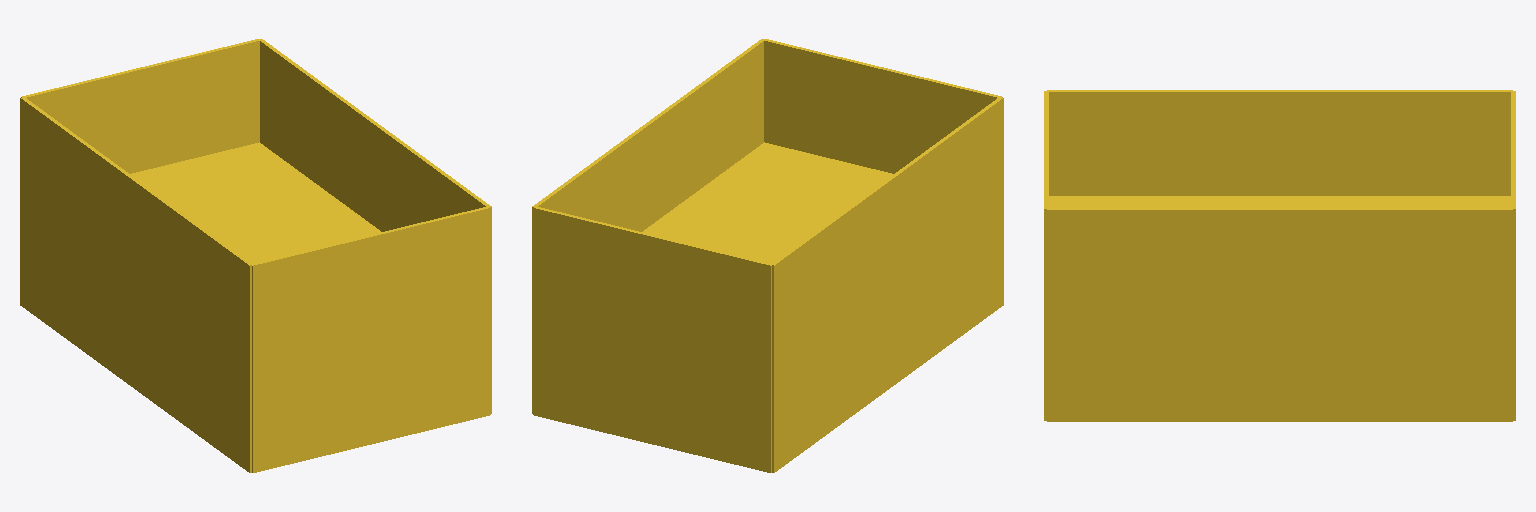
URDF robot description (mmp_panda):
<?xml version='1.0' encoding='utf-8'?>

<robot name="mmp_panda" version="1.0">

  <!-- GROUND LINK -->
  <link name ="ground_link">
    <inertial>
      <origin xyz="0.0 0.0 0.0" rpy="0 0 0" />
      <mass value="0.001" />
      <inertia ixx="1E-06" ixy="0.0" ixz="0.0" iyy="1E-06" iyz="0.0" izz="1E-06" />
    </inertial>
  </link>


   <!-- BASKET LINKS -->
  <link name = "basket_wall1">
    <inertial>
      <origin xyz="0.0 0.0 0.0" rpy="0 0 0" />
      <mass value = "0.1" />
      <inertia ixx="0.1" ixy="0.0" ixz="0.0" iyy="0.1" iyz="0.0" izz="0.1" />
    </inertial>
    <collision>
      <origin xyz="0.0 0.0 0" rpy="0 0 0" />
      <geometry>
        <box size="0.005 0.5 0.25" />
      </geometry>
    </collision>
    <visual>
      <origin xyz="0.0 0.0 0" rpy="0 0 0" />
      <geometry>
        <box size="0.005 0.5 0.25" />
      </geometry>
      <material name="material">
		        <color rgba="0.956 0.815 0.24 1.0" />
	    </material>
    </visual>
  </link>
  <link name = "basket_wall2">
    <inertial>
      <origin xyz="0.0 0.0 0.0" rpy="0 0 0" />
      <mass value = "0.1" />
      <inertia ixx="0.1" ixy="0.0" ixz="0.0" iyy="0.1" iyz="0.0" izz="0.1" />
    </inertial>
    <collision>
      <origin xyz="0.3 0.0 0" rpy="0 0 0" />
      <geometry>
        <box size="0.005 0.5 0.25" />
      </geometry>
    </collision>
    <visual>
      <origin xyz="0.3 0.0 0" rpy="0 0 0" />
      <geometry>
        <box size="0.005 0.5 0.25" />
      </geometry>
      <material name="material">
		        <color rgba="0.956 0.815 0.24 1.0" />
	    </material>
    </visual>
  </link>
  <link name = "basket_wall3">
    <inertial>
      <origin xyz="0.0 0.0 0.0" rpy="0 0 0" />
      <mass value = "0.1" />
      <inertia ixx="0.1" ixy="0.0" ixz="0.0" iyy="0.1" iyz="0.0" izz="0.1" />
    </inertial>
    <collision>
      <origin xyz="0.15 0.25 0" rpy="0 0 0" />
      <geometry>
        <box size="0.3 0.005 0.25" />
      </geometry>
    </collision>
    <visual>
      <origin xyz="0.15 0.25 0" rpy="0 0 0" />
      <geometry>
        <box size="0.3 0.005 0.25" />
      </geometry>
      <material name="material">
		        <color rgba="0.956 0.815 0.24 1.0" />
	    </material>
    </visual>
  </link>
  <link name = "basket_wall4">
    <inertial>
      <origin xyz="0.0 0.0 0.0" rpy="0 0 0" />
      <mass value = "0.1" />
      <inertia ixx="0.1" ixy="0.0" ixz="0.0" iyy="0.1" iyz="0.0" izz="0.1" />
    </inertial>
     <collision>
      <origin xyz="0.15 -0.25 0" rpy="0 0 0" />
      <geometry>
        <box size="0.3 0.005 0.25" />
      </geometry>
    </collision>
    <visual>
      <origin xyz="0.15 -0.25 0" rpy="0 0 0" />
      <geometry>
        <box size="0.3 0.005 0.25" />
      </geometry>
      <material name="material">
		        <color rgba="0.956 0.815 0.24 1.0" />
	    </material>
    </visual>
  </link>
  <link name = "basket_wall5">
    <inertial>
      <origin xyz="0.0 0.0 0.0" rpy="0 0 0" />
      <mass value = "0.1" />
      <inertia ixx="0.1" ixy="0.0" ixz="0.0" iyy="0.1" iyz="0.0" izz="0.1" />
    </inertial>
    <collision>
      <origin xyz="0.15 0.0 0" rpy="0 0 0" />
      <geometry>
        <box size="0.3 0.5 0.005" />
      </geometry>
    </collision>
    <visual>
      <origin xyz="0.15 0.0 0" rpy="0 0 0" />
      <geometry>
        <box size="0.3 0.5 0.005" />
      </geometry>
      <material name="material">
		        <color rgba="0.956 0.815 0.24 1.0" />
	    </material>
    </visual>
  </link>



  <!--BASKET JOINTS -->
  <joint name = "basket_link1" type = "fixed">
    <origin xyz = "0 0 0" rpy = "0 0 0"/> 
    <parent link = "ground_link" />
    <child link= "basket_wall1"/>
    <axis xyz = "1 0 0" />
  </joint>

  <joint name = "basket_link2" type = "fixed">
    <origin xyz = "0 0 0" rpy = "0 0 0"/> 
    <parent link = "basket_wall1" />
    <child link= "basket_wall2"/>
    <axis xyz = "0 1 0" />
  </joint>

  <joint name = "basket_link3" type = "fixed">
    <origin xyz = "0 0 0" rpy = "0 0 0"/> 
    <parent link = "basket_wall2" />
    <child link= "basket_wall3"/>
    <axis xyz = "0 1 0" />
  </joint>

  <joint name = "basket_link4" type = "fixed">
    <origin xyz = "0 0 0" rpy = "0 0 0"/> 
    <parent link = "basket_wall3" />
    <child link= "basket_wall4"/>
    <axis xyz = "0 1 0" />
  </joint>

  <joint name = "basket_link5" type = "fixed">
    <origin xyz = "0 0 0" rpy = "0 0 0"/> 
    <parent link = "basket_wall4" />
    <child link= "basket_wall5"/>
    <axis xyz = "0 1 0" />
  </joint>
 
</robot> 

--- What the picture shows (computed from the rendered views, not written in the file) ---
Views: 3 orthographic renders of the robot side by side, from view 1: azimuth 30°, elevation 25°; view 2: azimuth 150°, elevation 25°; view 3: azimuth 270°, elevation 25°.
Robot: mmp_panda — 6 links, 5 joints (5 fixed); root link ground_link; default pose: all joints at 0.
Visible links, largest first — view 1: basket_wall4, basket_wall1, basket_wall3, basket_wall2, basket_wall5; view 2: basket_wall3, basket_wall1, basket_wall4, basket_wall2, basket_wall5; view 3: basket_wall2, basket_wall1, basket_wall5, basket_wall3, basket_wall4.
Link boxes in pixels (x1,y1,x2,y2): basket_wall4: (251,207,490,472); basket_wall1: (20,97,251,472); basket_wall3: (21,39,259,173); basket_wall2: (259,39,491,413); basket_wall5: (130,142,380,263); basket_wall3: (533,207,771,472); basket_wall1: (771,97,1003,472); basket_wall4: (763,39,1002,173); basket_wall2: (532,39,764,413); basket_wall5: (643,142,893,263); basket_wall2: (1047,208,1512,421); basket_wall1: (1047,90,1512,195); basket_wall5: (1049,196,1510,207); basket_wall3: (1511,91,1515,420); basket_wall4: (1044,91,1048,420).
Size in the robot's own frame: 0.305 by 0.505 by 0.25 metres.
Geometry: primitives only (box / cylinder / sphere), no mesh files.
